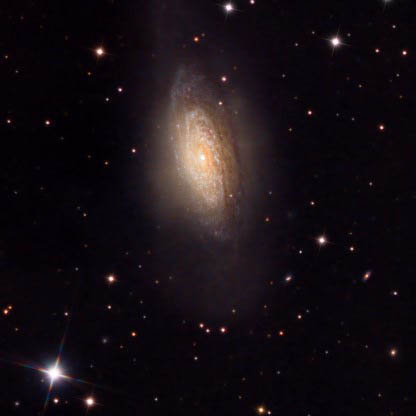NGC 3521: (72, 31, 345, 292)
